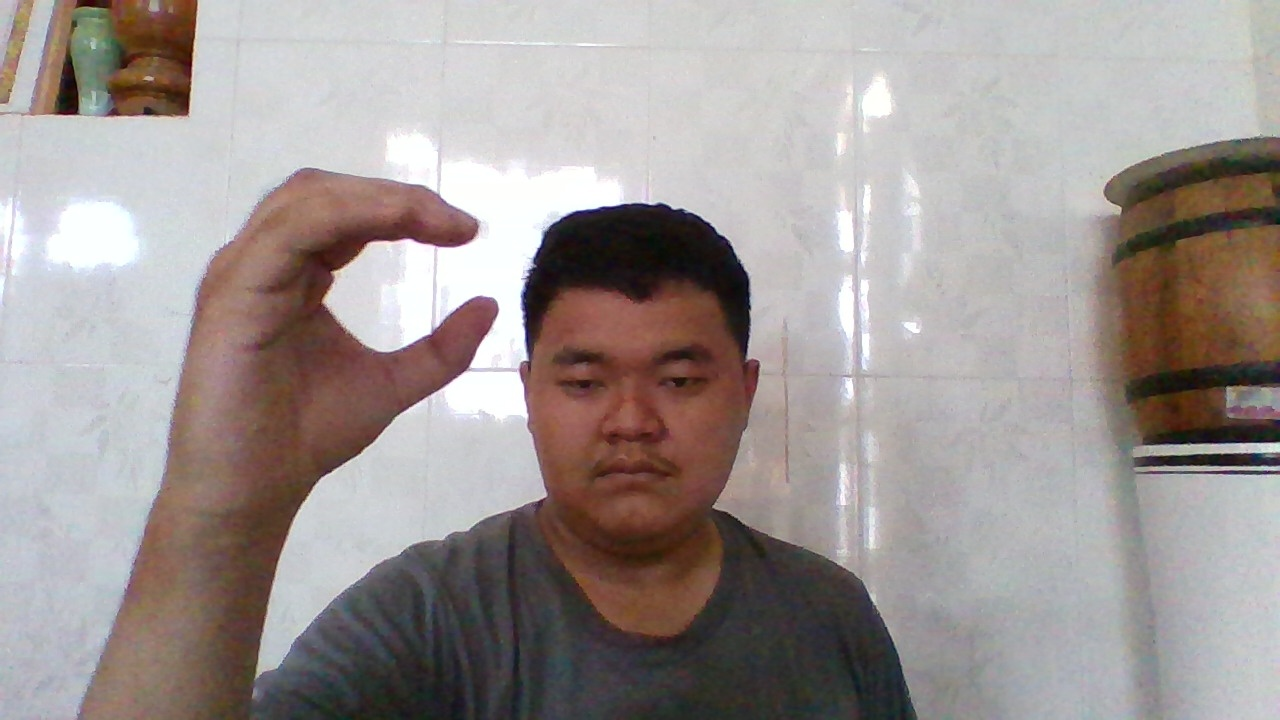C: (218, 174, 503, 515)
